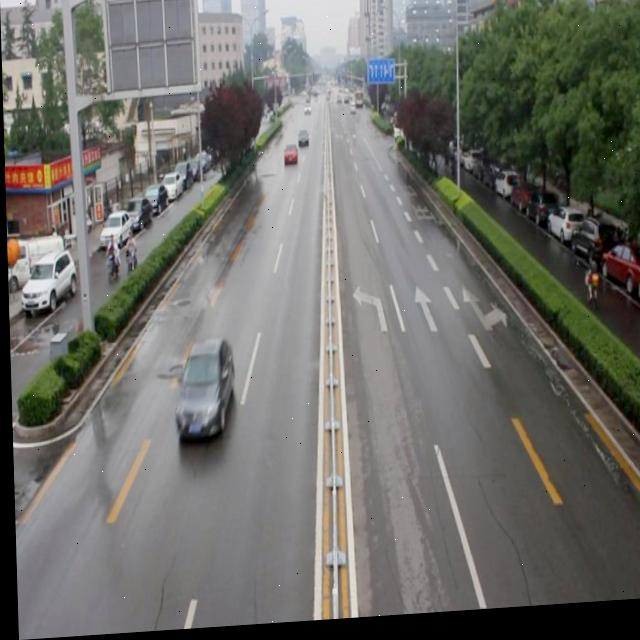car: (170, 341, 234, 444), (281, 146, 297, 169), (295, 132, 307, 150)
